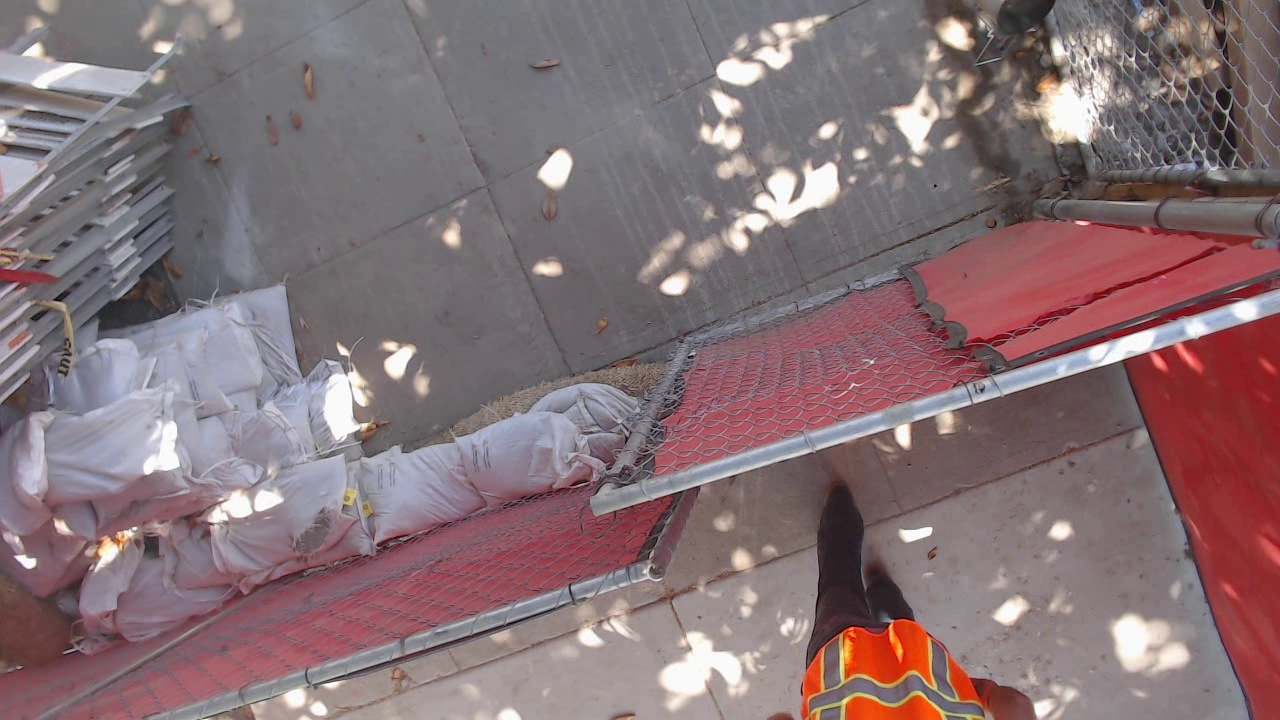hardhat: (291, 305, 446, 458)
person: (292, 202, 580, 458)
safetyvest: (324, 230, 573, 409)
